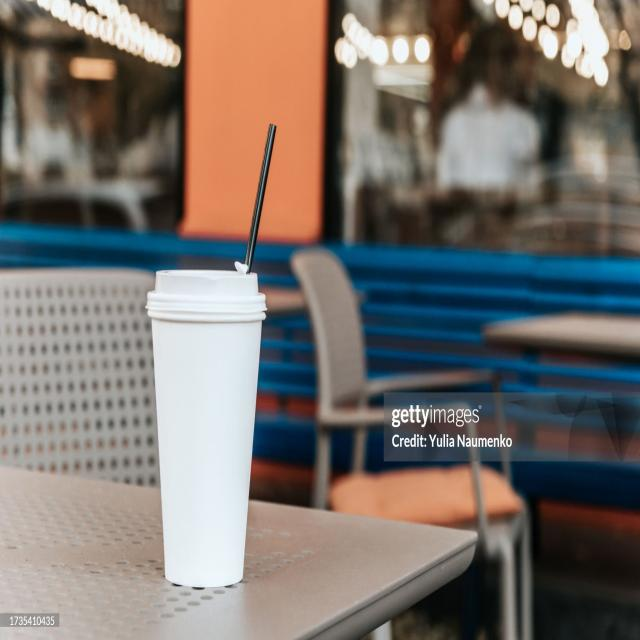cup: (144, 266, 268, 586)
